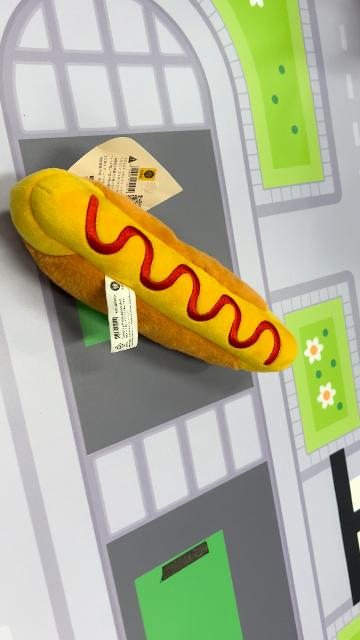hotdog: (14, 169, 296, 375)
